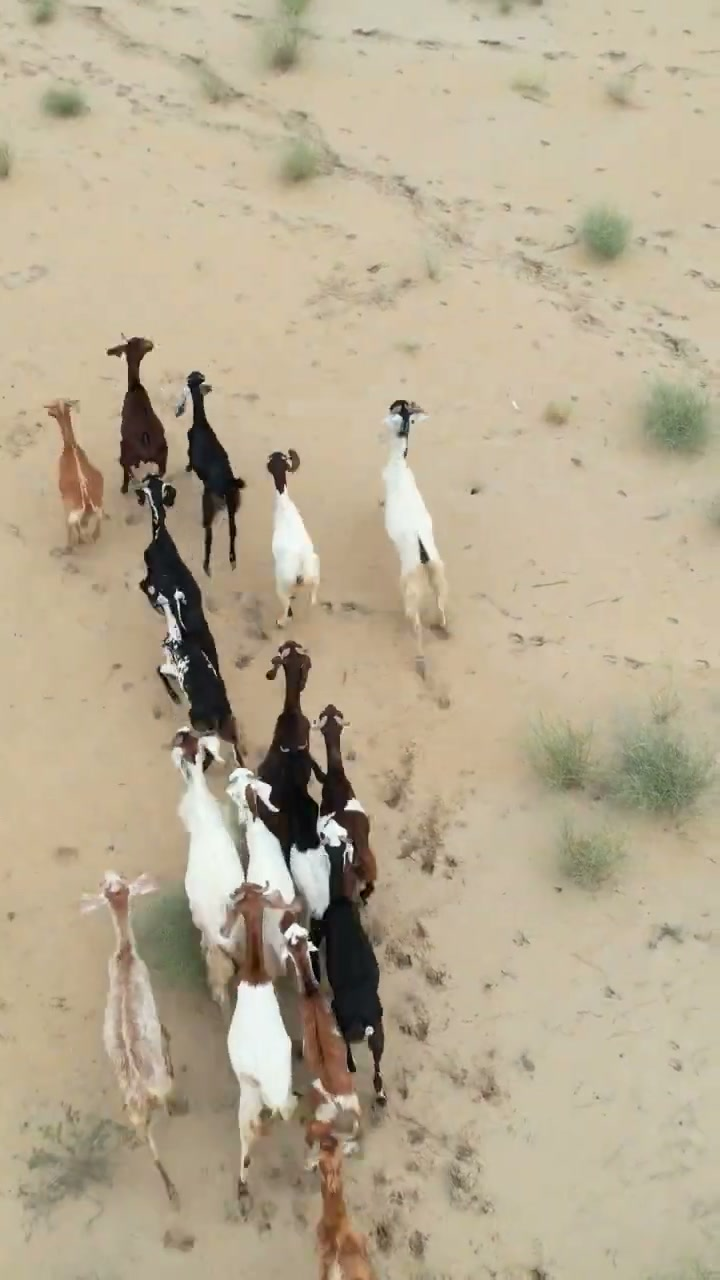animal_footprint: (397, 607, 679, 1234), (37, 562, 200, 777)
